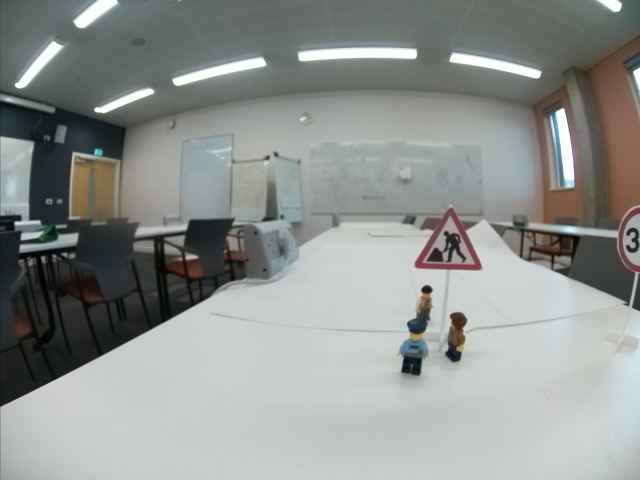30mph: (616, 203, 640, 275)
Lego Man: (396, 319, 434, 377), (442, 311, 471, 363), (414, 283, 436, 319)
Roadworks: (417, 205, 482, 272)
